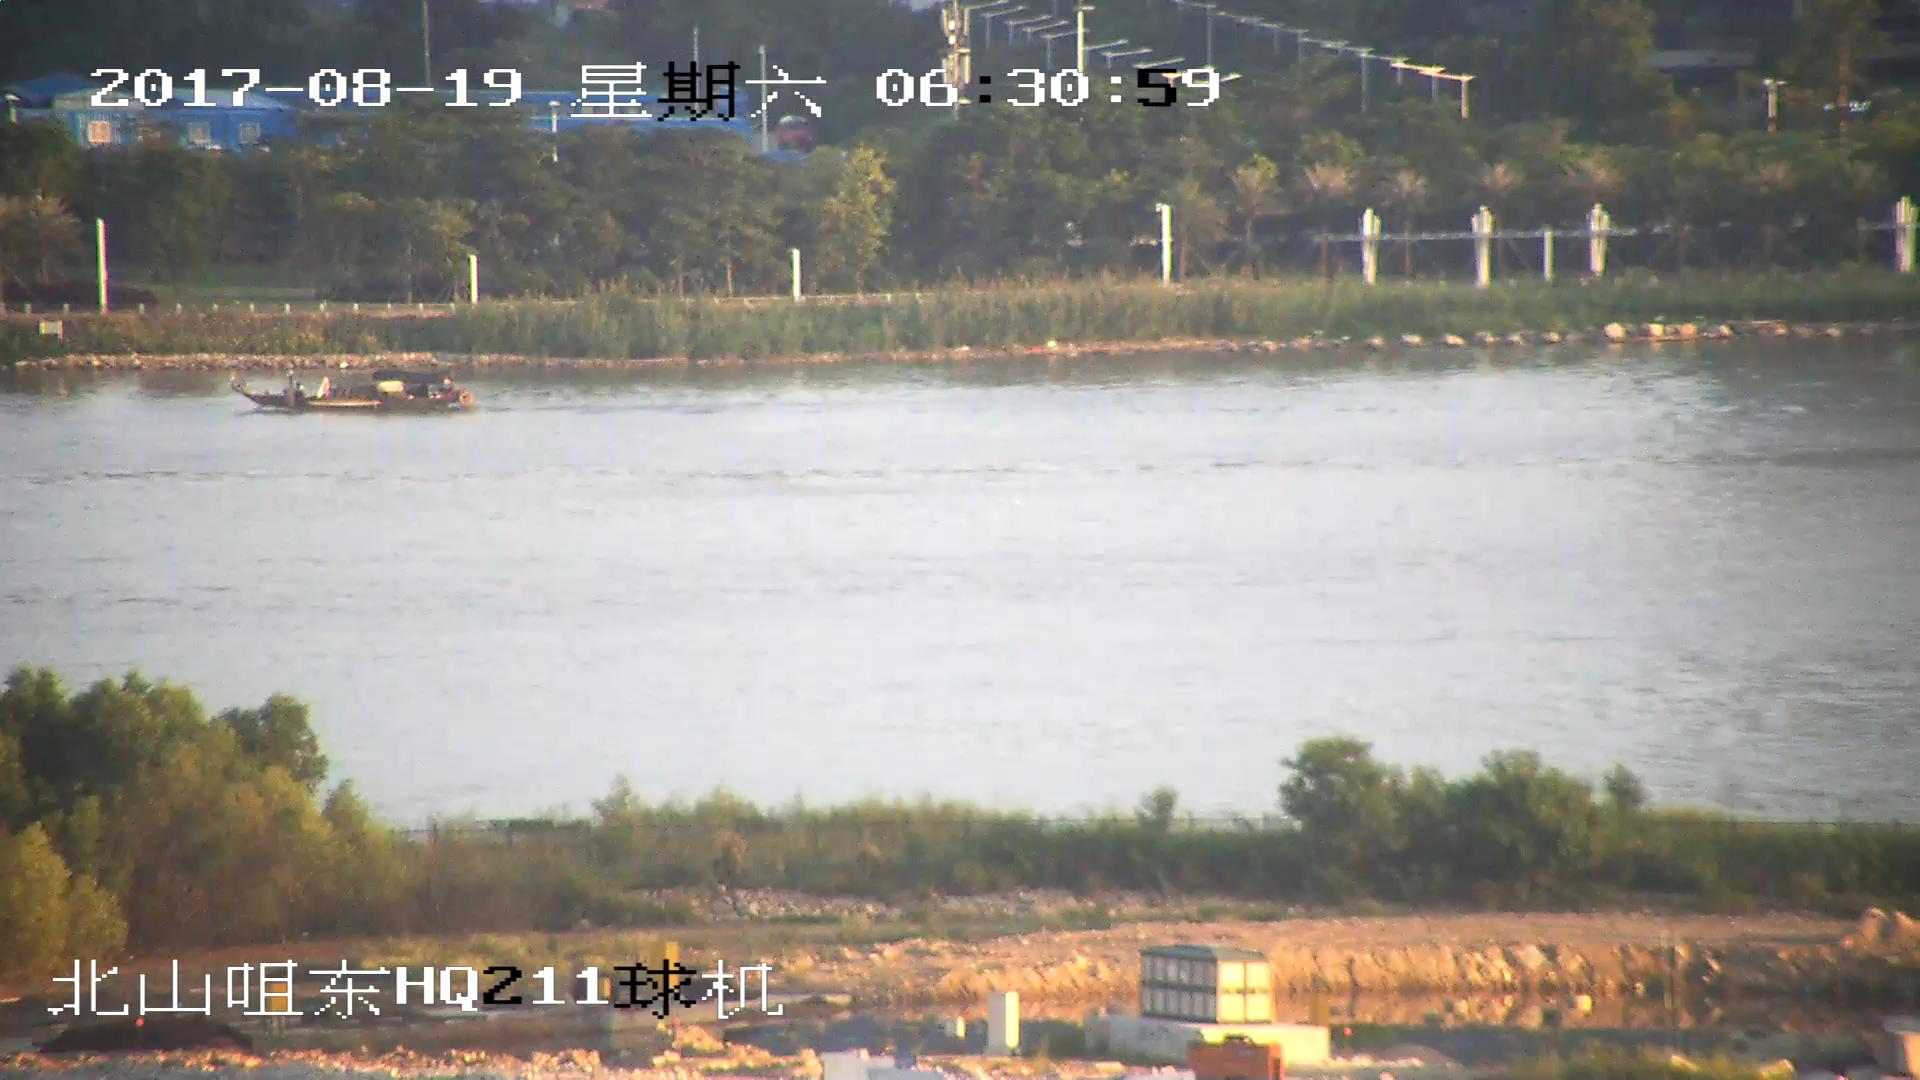fishing boat: (239, 365, 468, 414)
